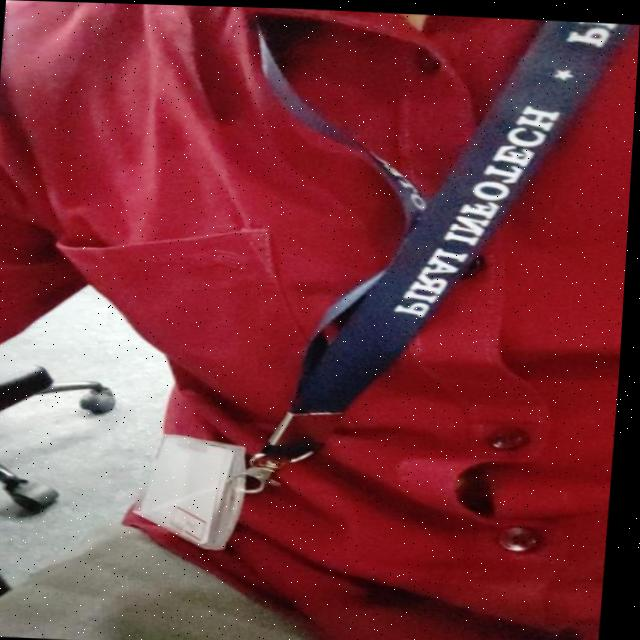id_card: (136, 4, 631, 563)
